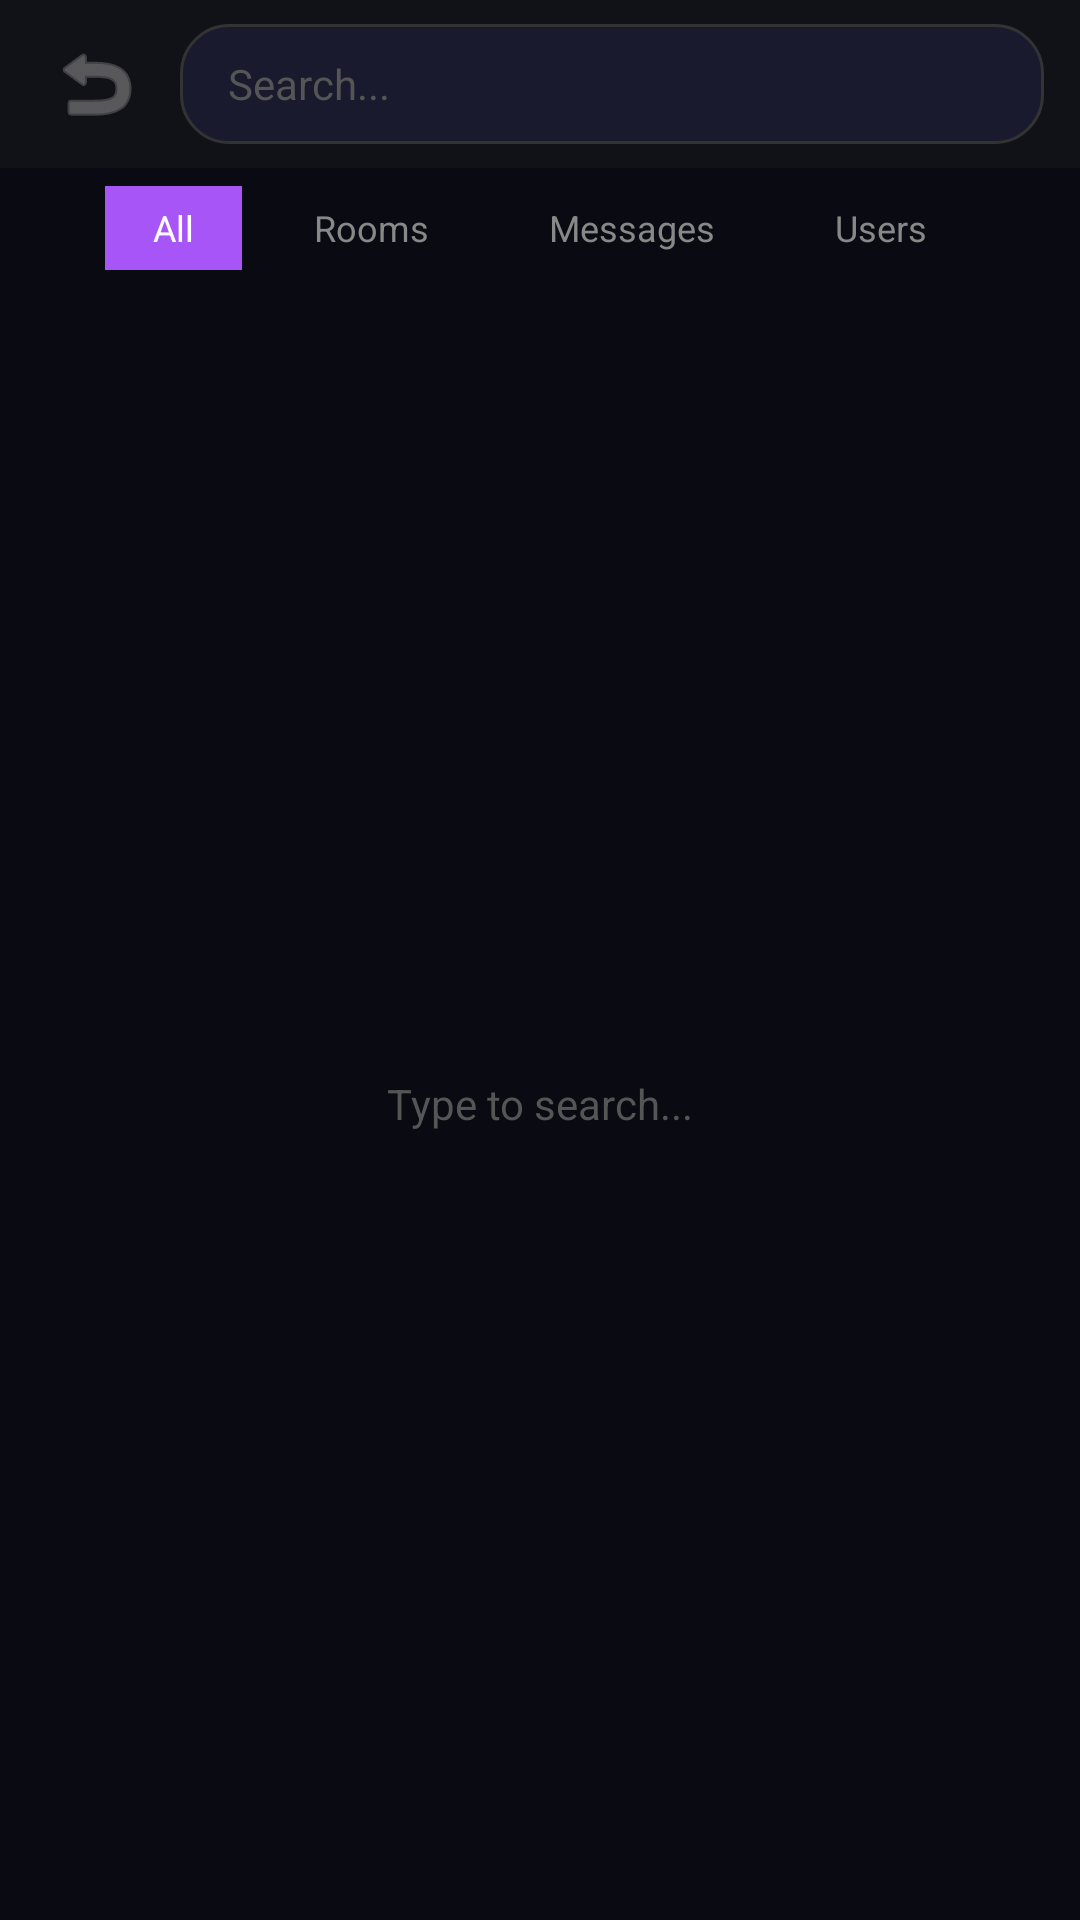

Icon bounding boxes for this 1080 x 1920 phone screenshot, format box=[x1, y1, x2, y2]:
Back: box=[63, 54, 132, 116]
